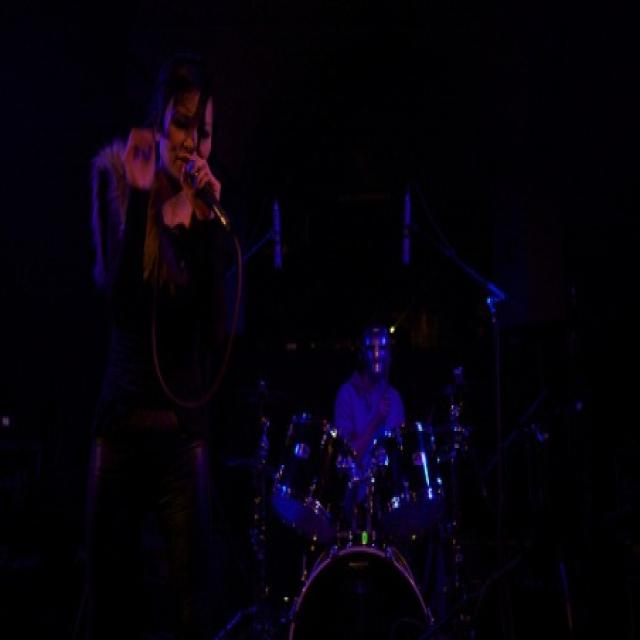People: (98, 67, 268, 511), (310, 319, 421, 562)
